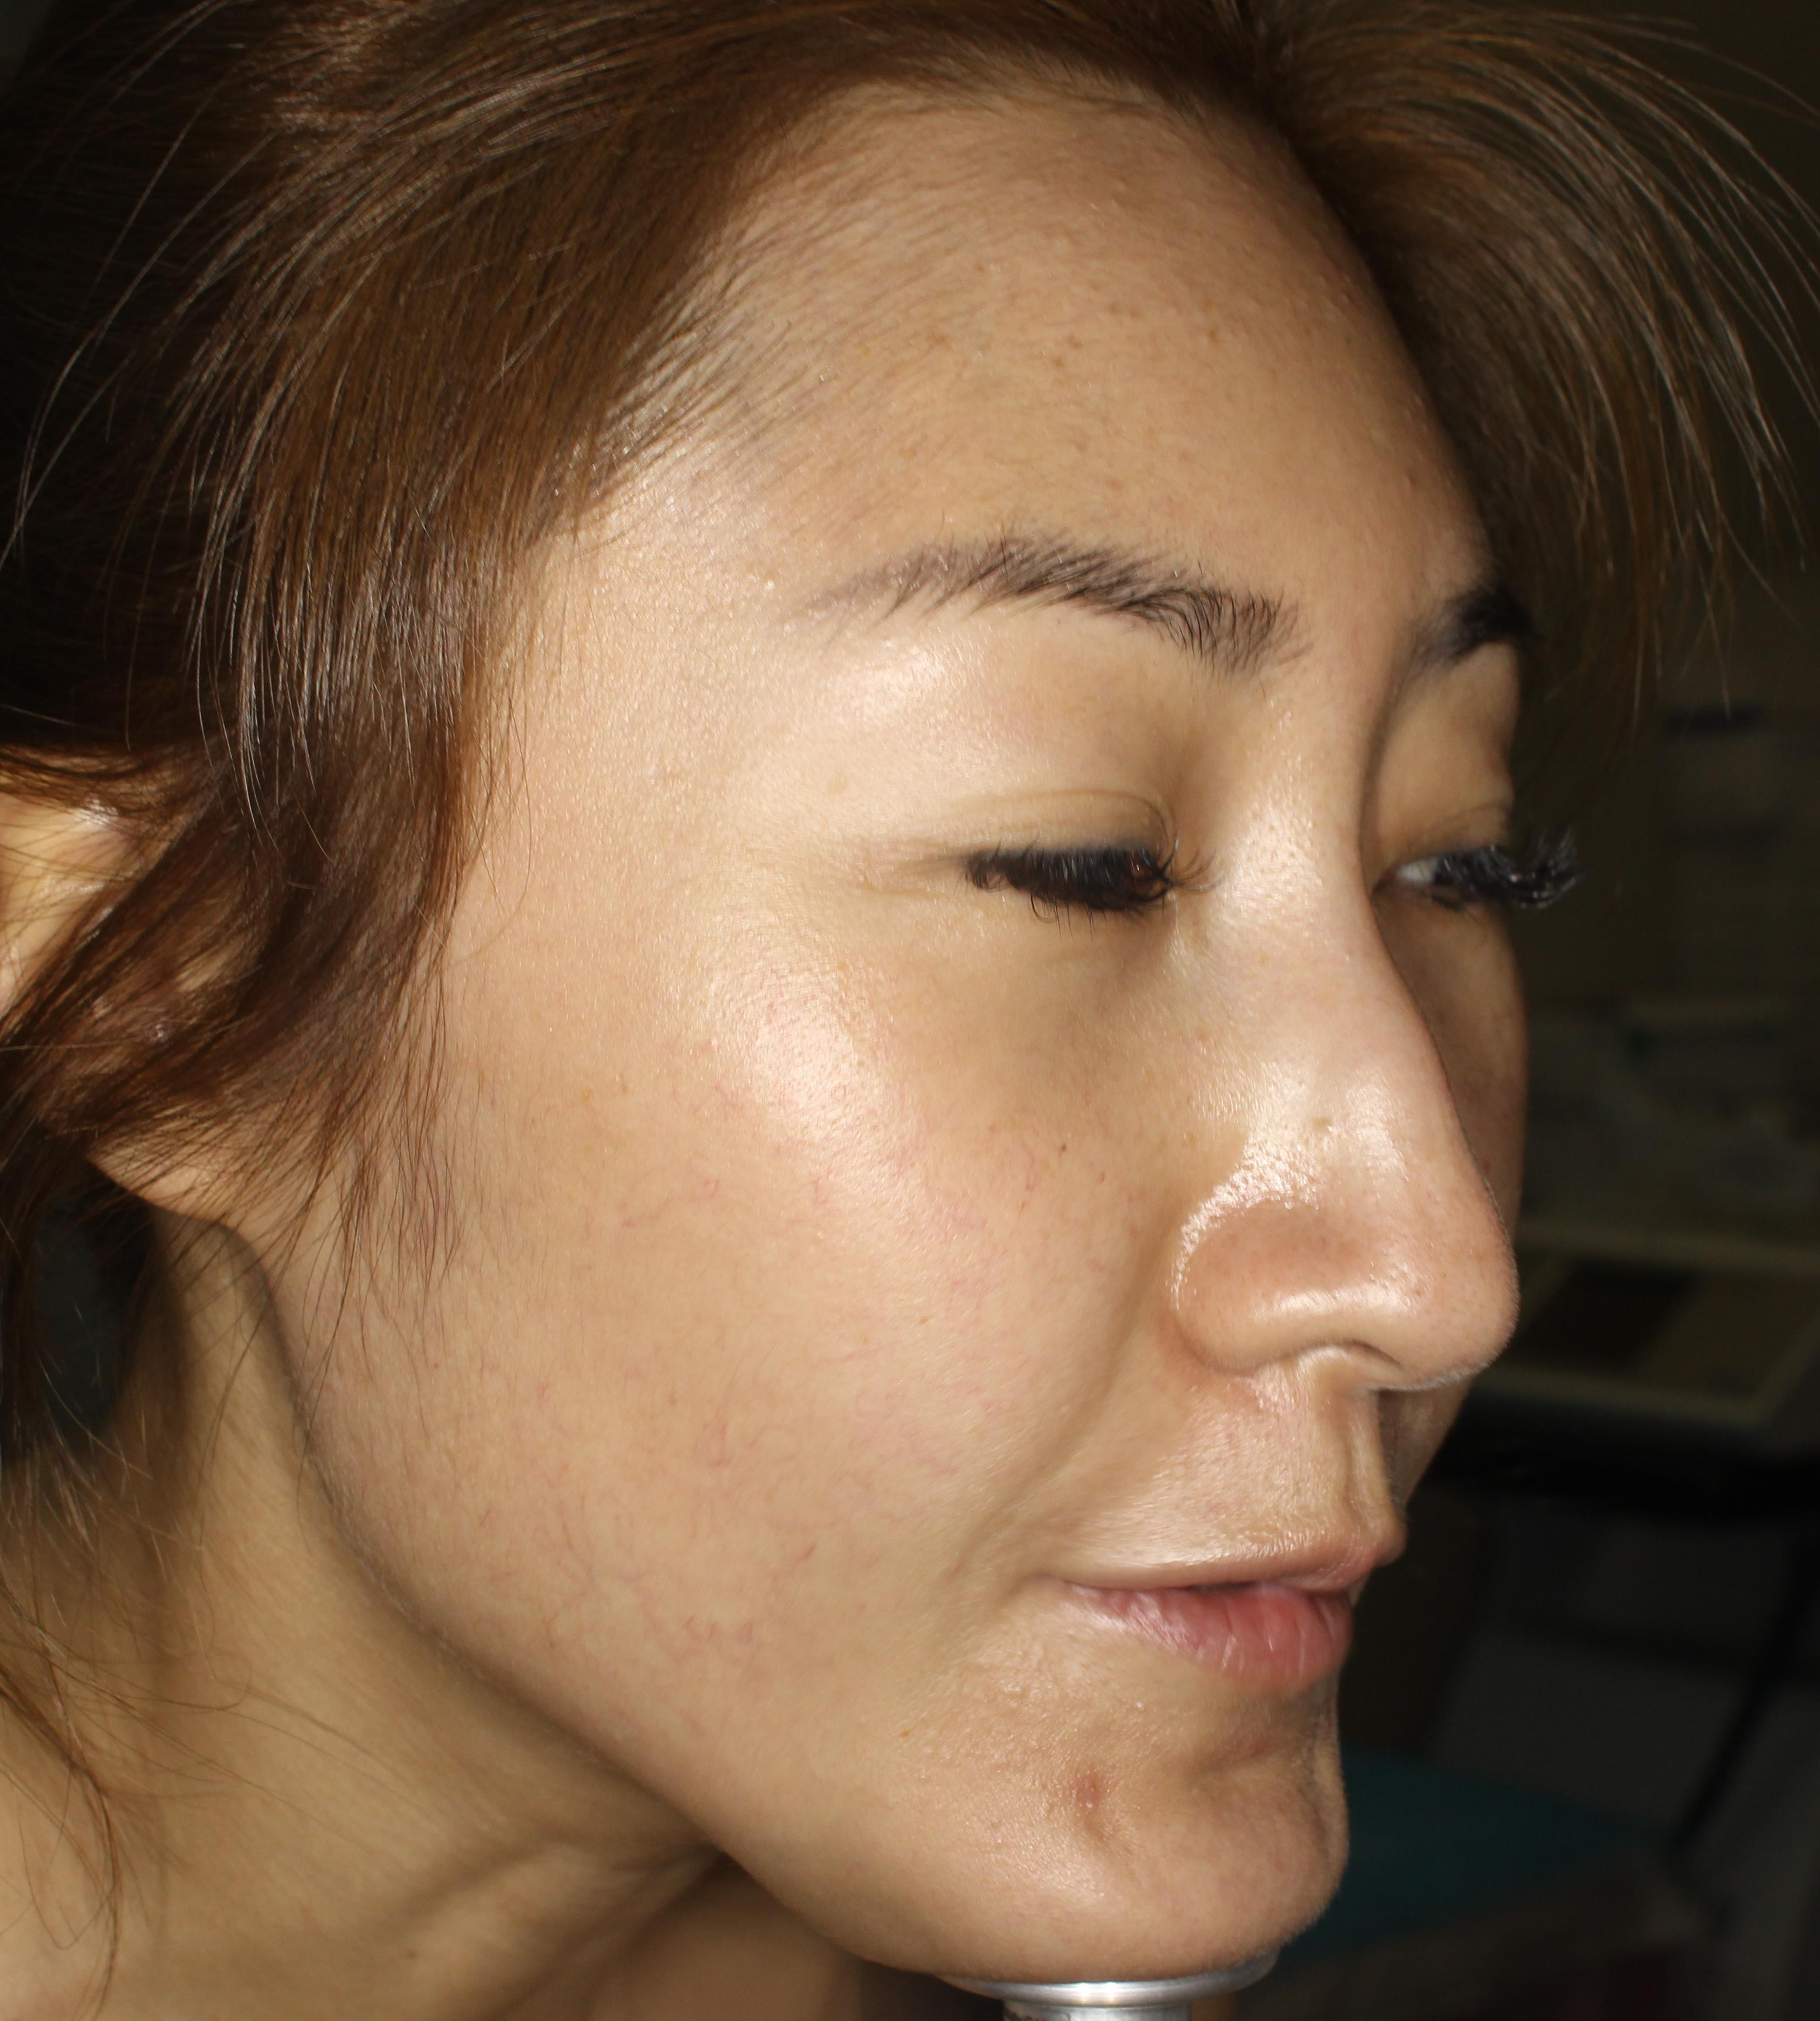fore: (1042, 1751, 1152, 1835)
